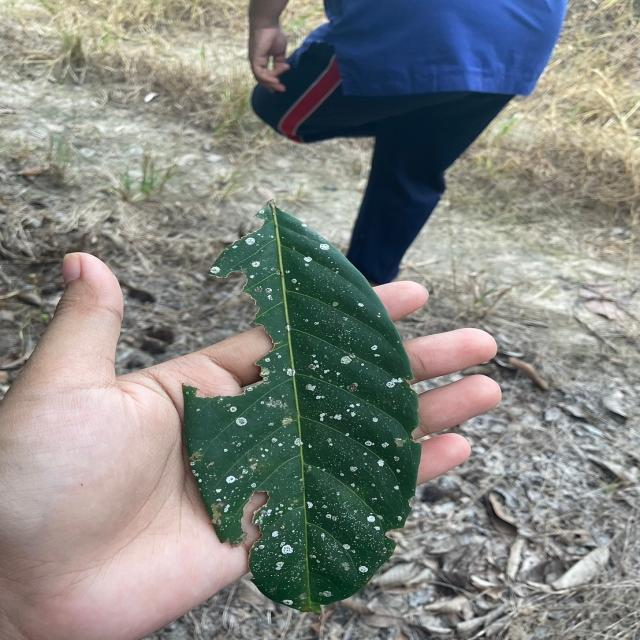Algal Leaf Spot: (193, 207, 412, 597)
